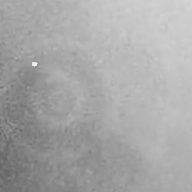Target: (30, 61, 38, 67)
